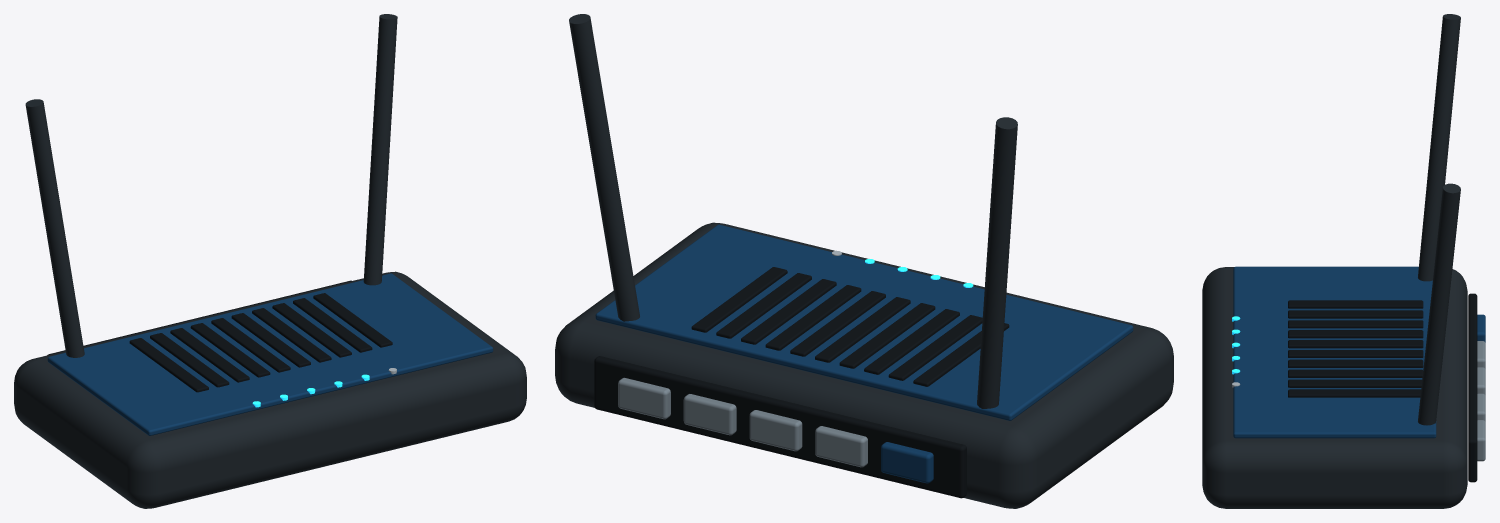
The model's file is wifi-router.glb.
3 renders of one model, left to right at view 1: azimuth 30°, elevation 25°; view 2: azimuth 150°, elevation 25°; view 3: azimuth 270°, elevation 25°, orthographic. The views are drawn at different scales.
Parts seen in each view (by area): view 1: Router chassis, Router top panel, Router vent (×10), Premium Wi-Fi 6 router; view 2: Router chassis, Router top panel, Router vent (×10), Premium Wi-Fi 6 router, Router rear panel, Ethernet port (×5); view 3: Router chassis, Router top panel, Router vent (×10), Premium Wi-Fi 6 router, Router rear panel, Ethernet port.
Part boxes in pixels (x1=…): Router chassis: x1=14, y1=271, x2=526, y2=508; Router top panel: x1=47, y1=273, x2=493, y2=435; Router vent (×10): x1=129, y1=293, x2=392, y2=392; Premium Wi-Fi 6 router: x1=25, y1=14, x2=397, y2=357; Router chassis: x1=555, y1=222, x2=1173, y2=508; Router top panel: x1=595, y1=224, x2=1133, y2=420; Router vent (×10): x1=691, y1=267, x2=1009, y2=386; Premium Wi-Fi 6 router: x1=569, y1=14, x2=1017, y2=408; Router rear panel: x1=594, y1=356, x2=966, y2=498; Ethernet port (×5): x1=618, y1=377, x2=933, y2=483; Router chassis: x1=1202, y1=267, x2=1467, y2=508; Router top panel: x1=1233, y1=266, x2=1436, y2=438; Router vent (×10): x1=1288, y1=300, x2=1423, y2=397; Premium Wi-Fi 6 router: x1=1418, y1=14, x2=1460, y2=425; Router rear panel: x1=1468, y1=293, x2=1477, y2=482; Ethernet port: x1=1477, y1=420, x2=1485, y2=461.
Size of the model in its own units: 1.75 by 1.36 by 1.09.
